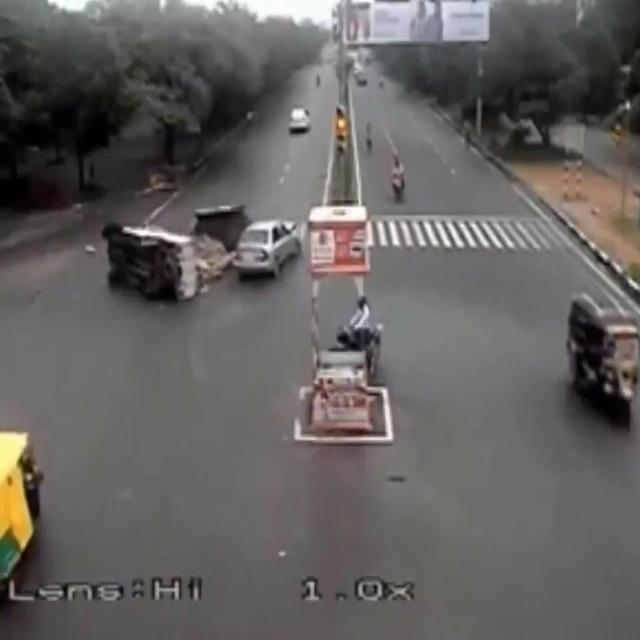severe: (101, 201, 231, 308)
